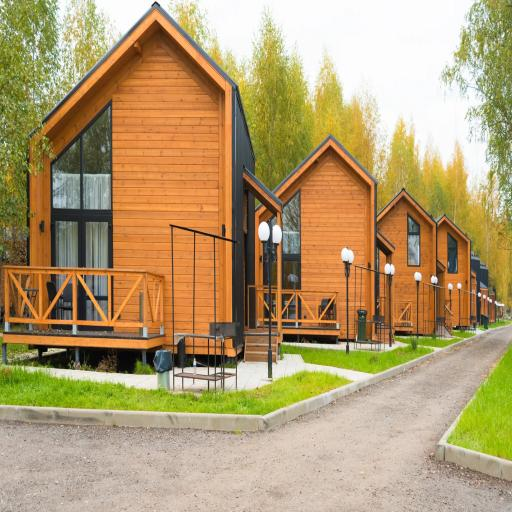casa: (23, 25, 266, 364)
